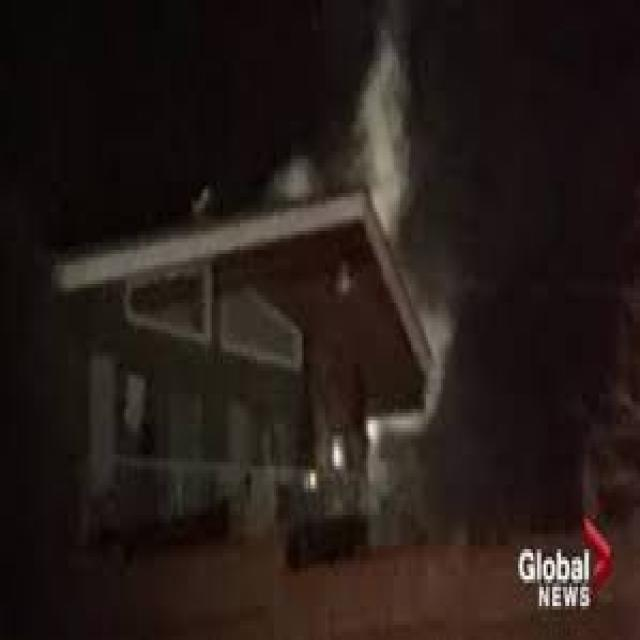Smoke: (332, 6, 416, 224), (369, 271, 455, 444), (266, 158, 318, 206)
